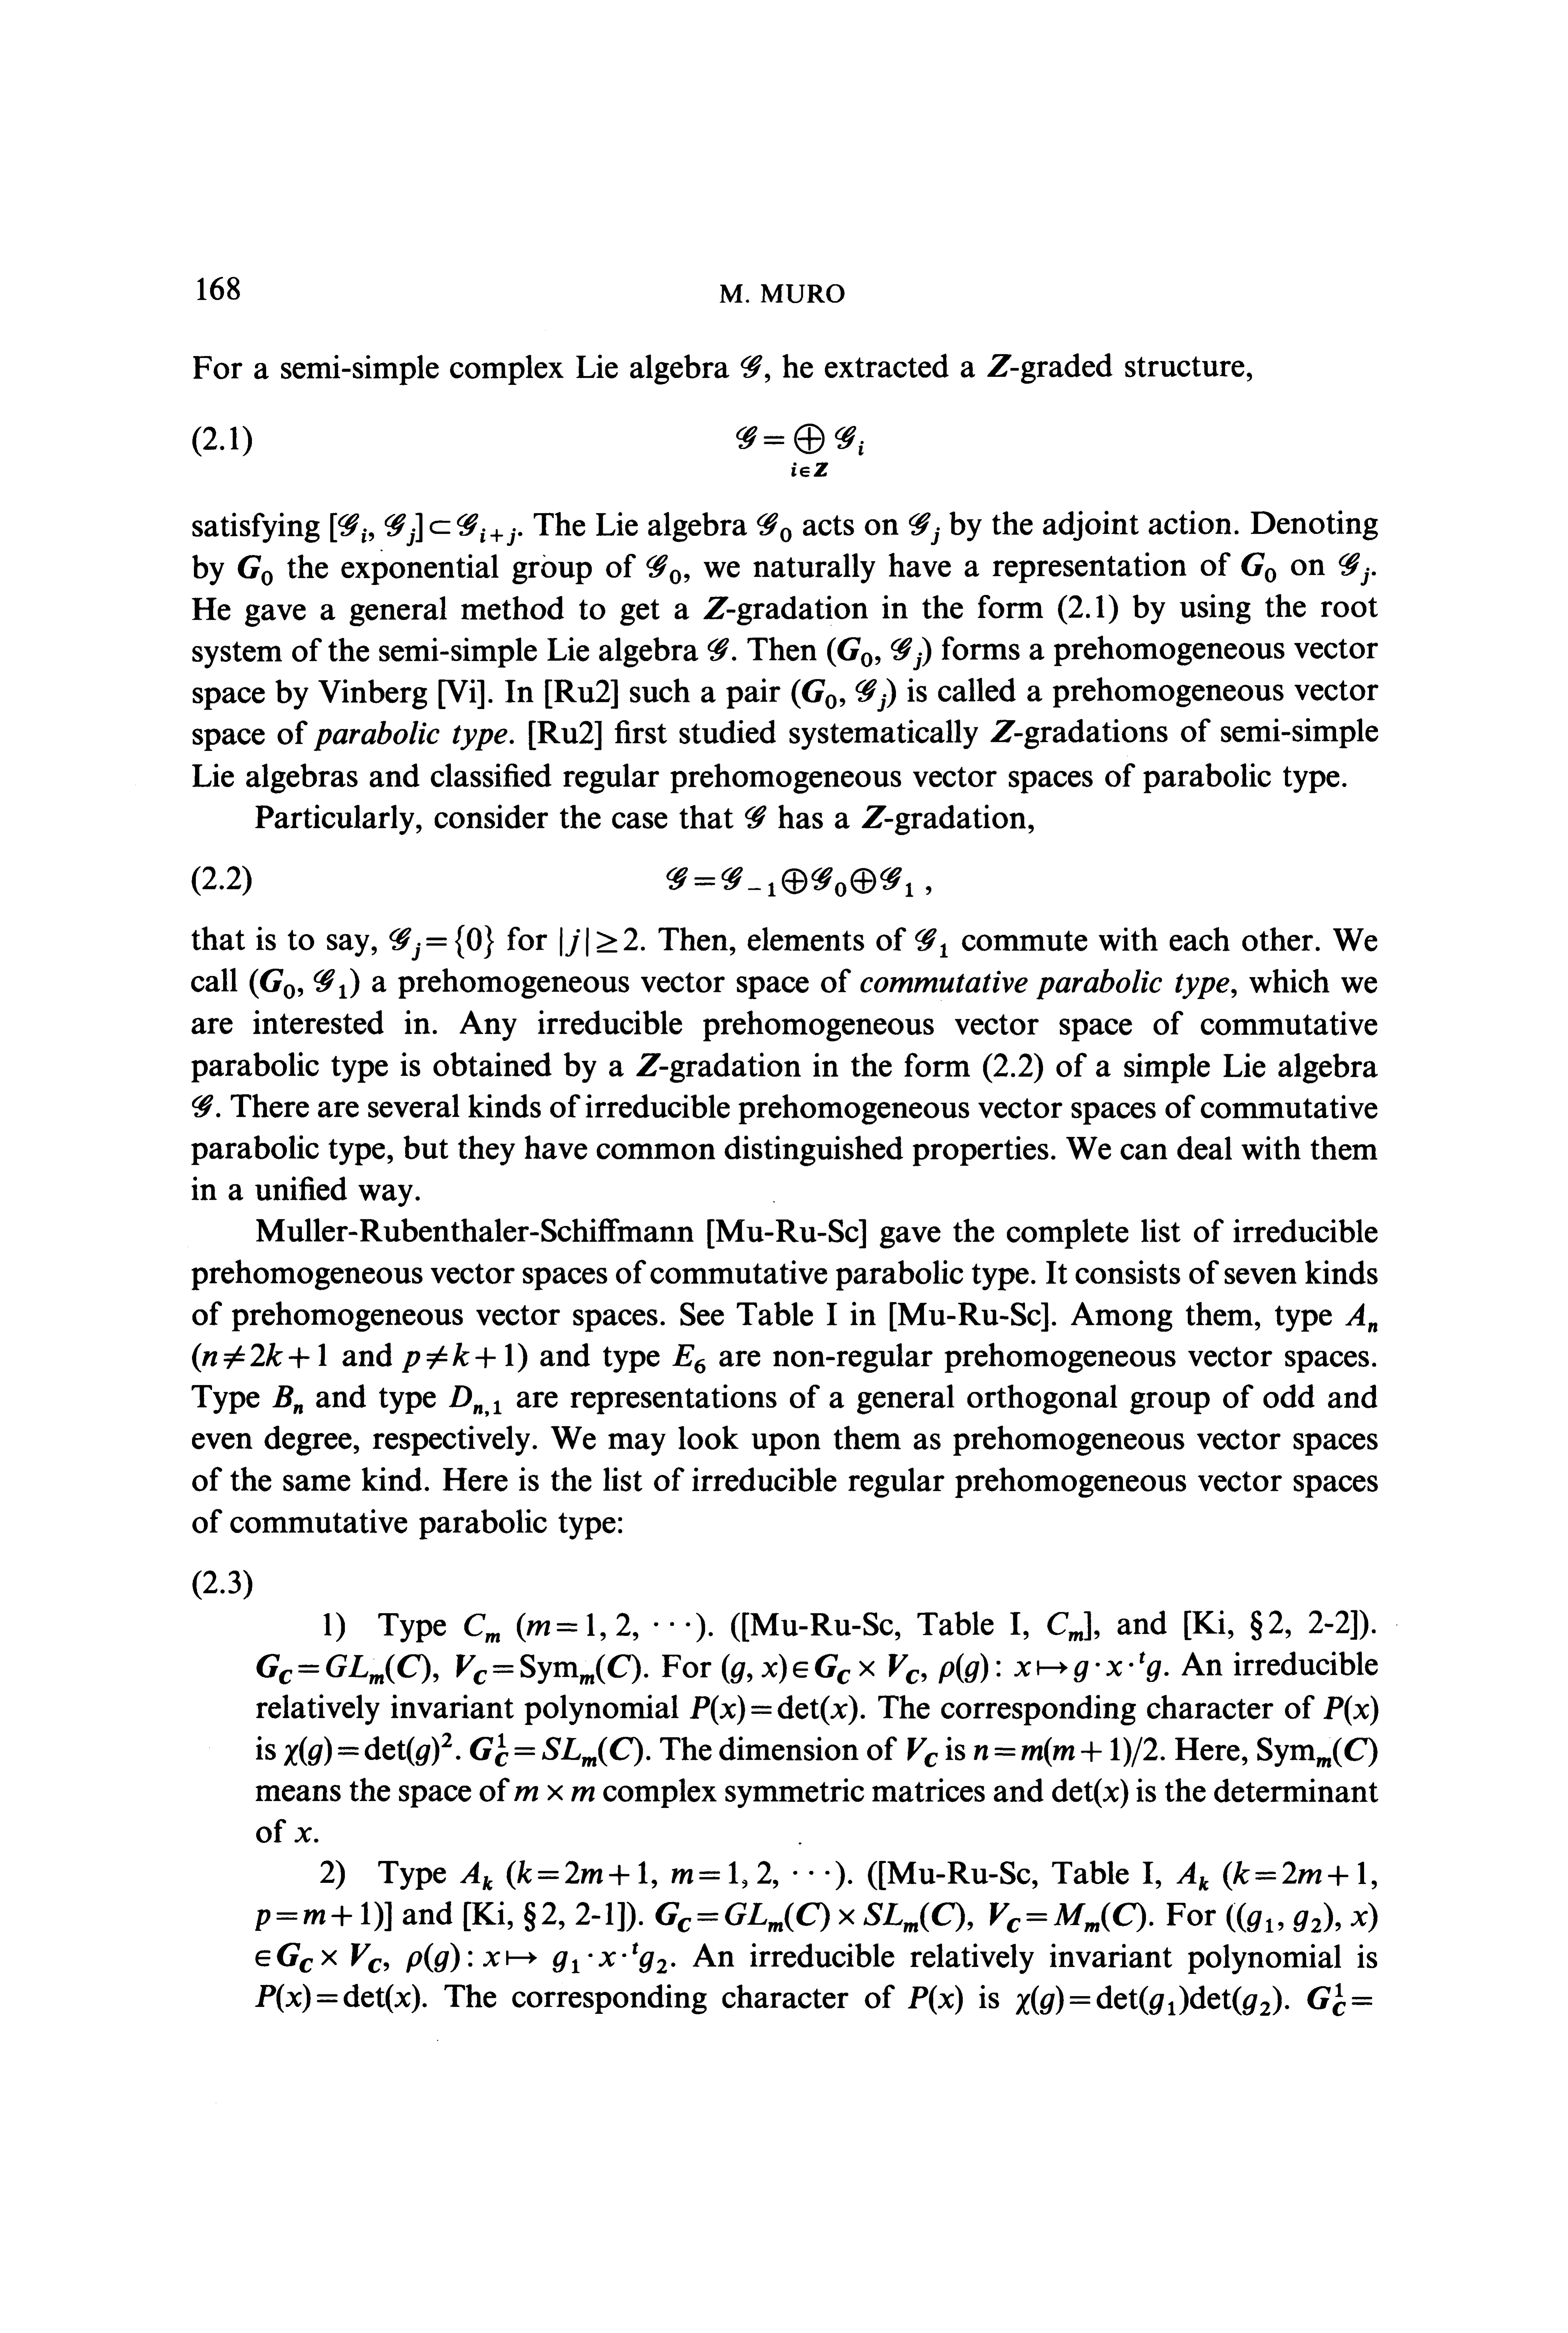maths: (656, 1902, 1146, 1932), (256, 1943, 667, 1972), (257, 1654, 641, 1684), (518, 1860, 829, 1888), (1017, 1985, 1281, 2016), (667, 866, 914, 896), (938, 1652, 1160, 1684), (737, 424, 863, 476), (331, 513, 514, 546), (721, 1654, 919, 1684), (975, 1736, 1157, 1768), (471, 1733, 642, 1766), (1176, 1860, 1365, 1890), (284, 1733, 451, 1766), (690, 1696, 857, 1726), (256, 1985, 420, 2013), (1227, 1902, 1377, 1932), (527, 1614, 690, 1640), (388, 924, 494, 961), (256, 1902, 392, 1930), (1258, 1738, 1377, 1768), (828, 637, 931, 670), (250, 968, 359, 999), (791, 679, 896, 711), (402, 1342, 513, 1372), (201, 1342, 325, 1369), (1052, 1778, 1129, 1808), (560, 928, 637, 956), (1307, 1983, 1372, 2016), (1323, 1696, 1377, 1726), (908, 1985, 963, 2014), (448, 1386, 500, 1416), (514, 1785, 593, 1801), (756, 513, 791, 543), (238, 555, 273, 585), (646, 555, 681, 585), (1241, 553, 1276, 583), (1048, 1612, 1083, 1642), (672, 1344, 705, 1374), (464, 1614, 499, 1642), (910, 513, 940, 544), (1339, 553, 1369, 585), (915, 928, 947, 957), (908, 1738, 938, 1768), (1346, 1304, 1377, 1332), (460, 1862, 492, 1890), (273, 1386, 303, 1414), (987, 354, 1019, 376), (990, 719, 1022, 742), (637, 1054, 668, 1076), (863, 805, 892, 828), (703, 597, 735, 618), (740, 355, 761, 378), (707, 637, 728, 660), (746, 805, 766, 828), (193, 1094, 213, 1117), (294, 1827, 311, 1843)
